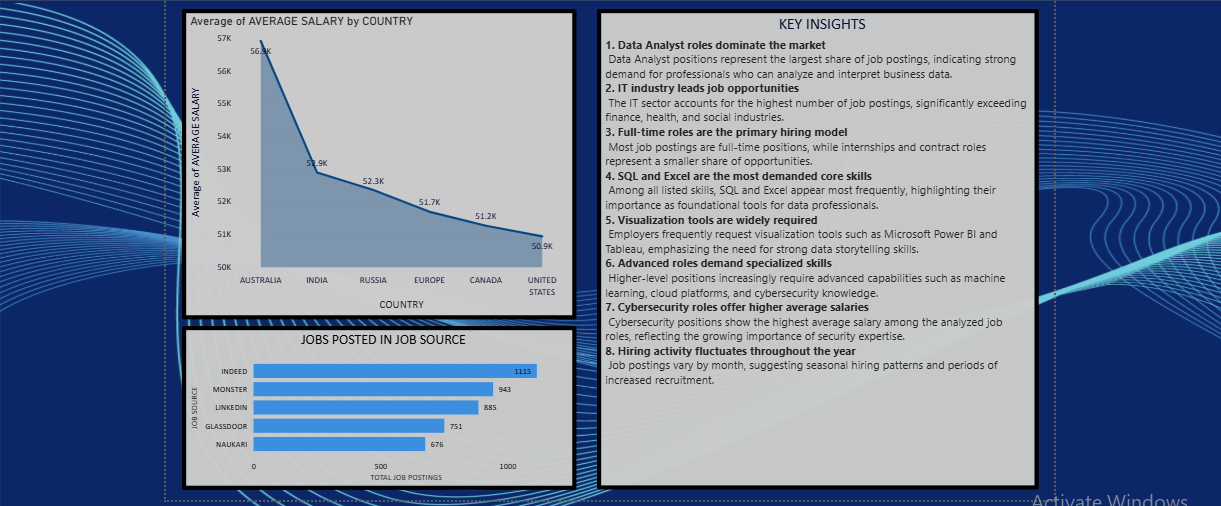

This screenshot's page, from the dashboard's own definition file:
{"tool":"powerbi","page":{"name":"KEY INSIGHTS","canvas":[1280,720],"ordinal":2},"visuals":[{"type":"textbox","title":"KEY INSIGHTS","box":[621.2,13.6,636.4,692.4],"z":0},{"type":"areaChart","fields":{"Category":["Sheet1.COUNTRY"],"Y":["Avg(Sheet1.AVERAGE SALARY)"]},"box":[22.7,13.6,568.2,447],"z":1},{"type":"barChart","title":"JOBS POSTED IN JOB SOURCE","fields":{"Category":["Sheet1.JOB SOURCE"],"Y":["Sheet1.TOTAL JOB POSTINGS"]},"box":[22.7,469.7,568.2,236.4],"z":2}]}

Visuals, with their boxes in screenshot pixels (x1, y1, x2, y2):
"KEY INSIGHTS" textbox: 592/6/1033/486
areaChart - Sheet1.COUNTRY x Avg(Sheet1.AVERAGE SALARY): 178/6/571/316
"JOBS POSTED IN JOB SOURCE" barChart: 178/322/571/486
